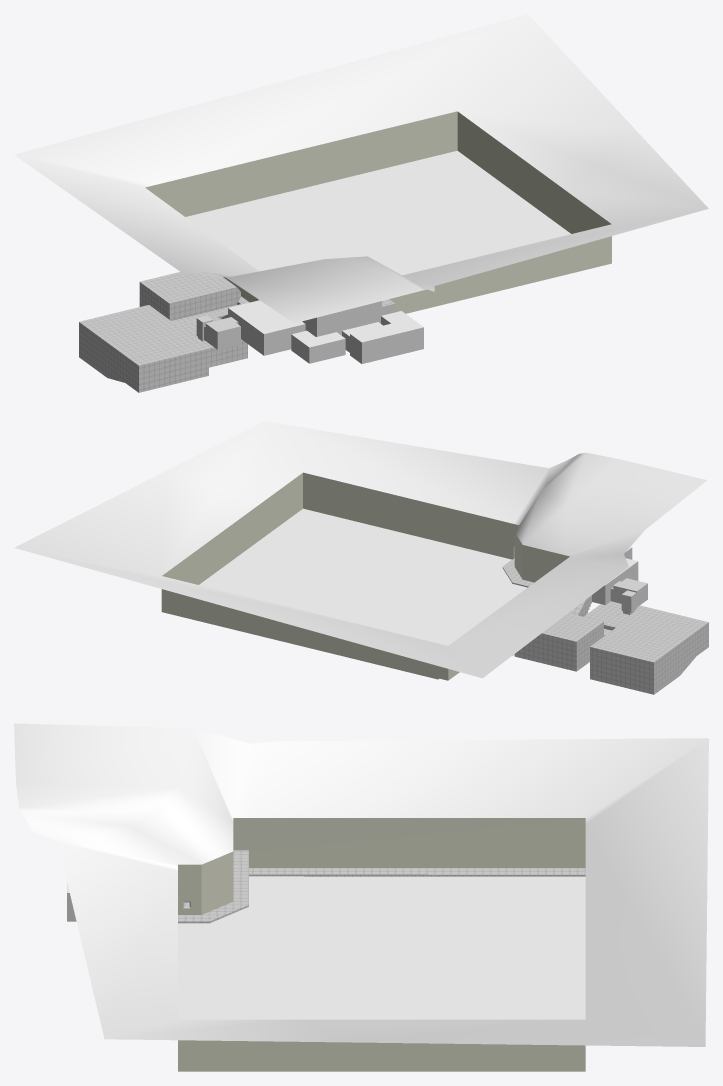
Rendered from sb_testsite.fbx.
3 views of the same model, one above another, from view 1: azimuth 30°, elevation 25°; view 2: azimuth 150°, elevation 25°; view 3: azimuth 270°, elevation 25° (orthographic). The views are drawn at different scales.
Visible parts, largest first — view 1: Level; view 2: Level; view 3: Level.
Part boxes in pixels (left/top/right/bottom): Level: left=14, top=14, right=708, bottom=392; Level: left=14, top=421, right=708, bottom=694; Level: left=14, top=723, right=708, bottom=1071.
Size of the model in its own units: 11058 by 2121 by 8777.
